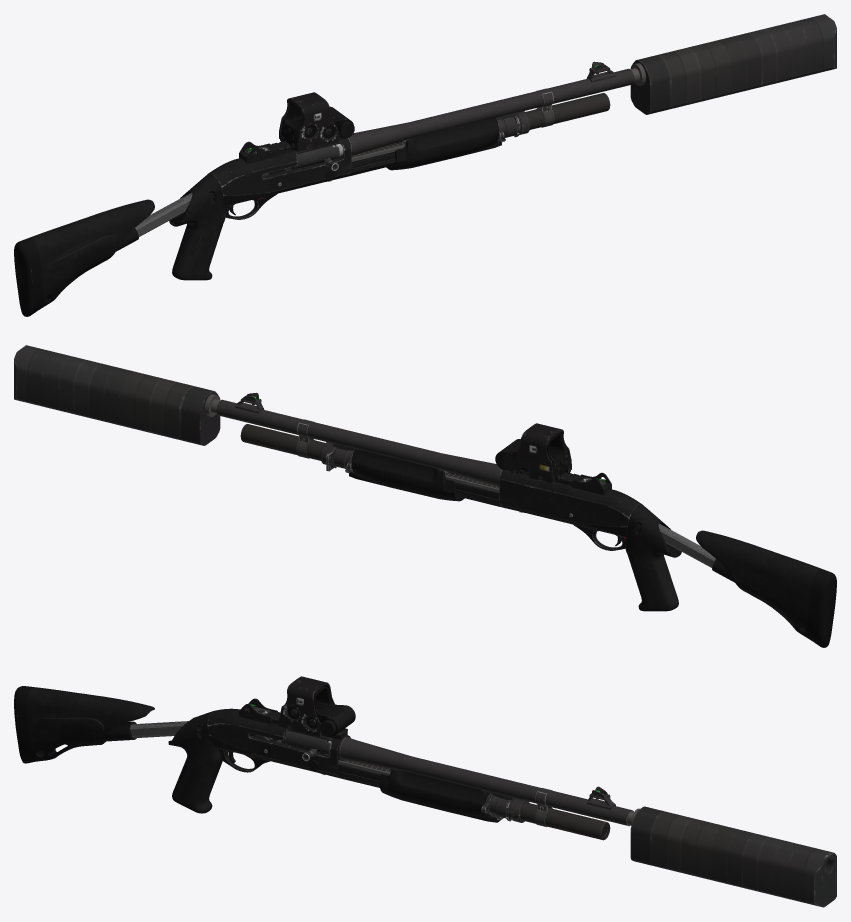
File: benelli_m3.839c031cb5.glb
3 renders of one model, top to bottom at view 1: azimuth 30°, elevation 25°; view 2: azimuth 150°, elevation 25°; view 3: azimuth 330°, elevation 25°, orthographic.
Parts seen in each view (by area): view 1: base, silencer, base_2, forend, sight, forend_2; view 2: base, silencer, base_2, forend, sight; view 3: base, silencer, base_2, forend, sight, forend_2.
Boxes of the visible parts, bbox=[...] form: base: bbox=[14, 88, 554, 316]; silencer: bbox=[630, 14, 836, 114]; base_2: bbox=[266, 61, 634, 186]; forend: bbox=[386, 118, 506, 170]; sight: bbox=[279, 92, 354, 152]; forend_2: bbox=[283, 139, 409, 171]; base: bbox=[296, 419, 836, 647]; silencer: bbox=[14, 345, 220, 445]; base_2: bbox=[216, 392, 572, 517]; forend: bbox=[344, 449, 464, 501]; sight: bbox=[495, 423, 571, 483]; base: bbox=[14, 686, 552, 826]; silencer: bbox=[626, 806, 836, 907]; base_2: bbox=[264, 731, 633, 840]; forend: bbox=[379, 769, 503, 822]; sight: bbox=[279, 676, 355, 737]; forend_2: bbox=[281, 731, 390, 775].
Size of the model in its own units: 1.53 by 0.2748 by 0.0842.
3 materials, 3 textured.
